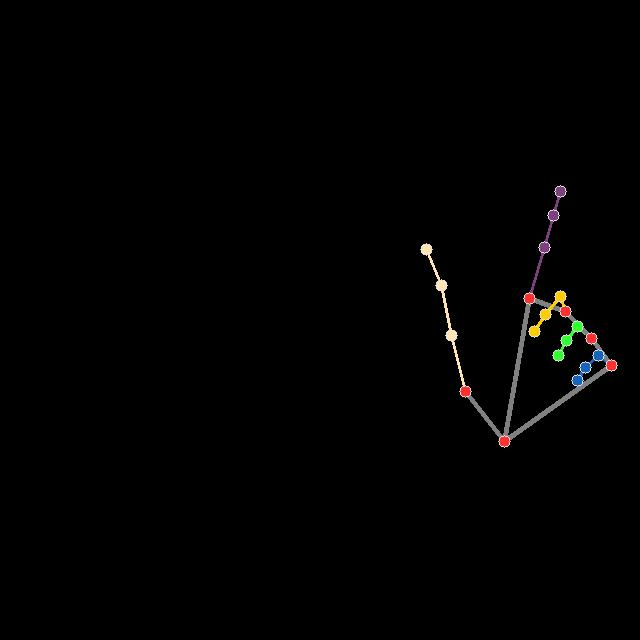gun: (417, 186, 621, 451)
